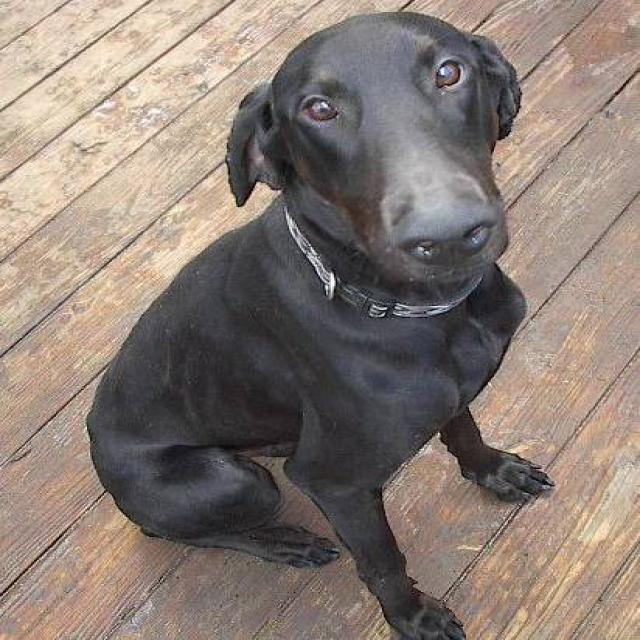Dog: (219, 7, 540, 299)
